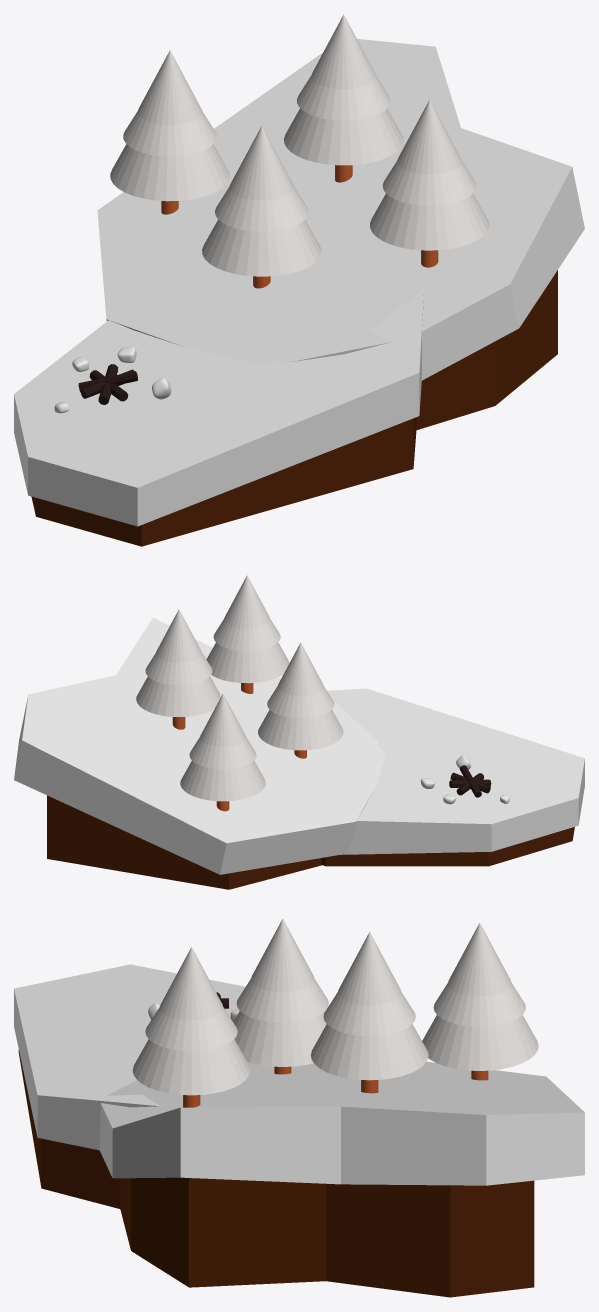
Rendered from ile_petite_neige_1.fbx.
The picture shows the model from 3 angles, top to bottom: view 1: azimuth 30°, elevation 25°; view 2: azimuth 150°, elevation 25°; view 3: azimuth 270°, elevation 25°; orthographic projection. The views are drawn at different scales.
Parts seen in each view (by area): view 1: Cylinder, Cylinder.001, Terre 2, Sapin 4, Sapin 3, Sapin 2, Sapin 1, Terre 1, Buche feu de camp, Roche feu de camp; view 2: Cylinder, Cylinder.001, Terre 1, Sapin 2, Sapin 1, Sapin 4, Sapin 3, Terre 2, Buche feu de camp, Roche feu de camp; view 3: Cylinder, Terre 1, Cylinder.001, Sapin 3, Sapin 4, Sapin 1, Sapin 2, Terre 2.
Part boxes in pixels (x1,y1,x2,y2): Cylinder: [97, 39, 584, 380]; Cylinder.001: [14, 289, 423, 526]; Terre 2: [31, 417, 416, 546]; Sapin 4: [284, 14, 403, 165]; Sapin 3: [370, 99, 489, 250]; Sapin 2: [202, 126, 321, 276]; Sapin 1: [110, 50, 229, 201]; Terre 1: [416, 270, 557, 430]; Buche feu de camp: [78, 364, 137, 404]; Roche feu de camp: [54, 346, 171, 413]; Cylinder: [14, 617, 386, 874]; Cylinder.001: [327, 688, 584, 854]; Terre 1: [47, 795, 322, 889]; Sapin 2: [258, 642, 343, 750]; Sapin 1: [180, 694, 265, 801]; Sapin 4: [136, 609, 221, 716]; Sapin 3: [206, 575, 289, 683]; Terre 2: [321, 827, 574, 866]; Buche feu de camp: [449, 765, 491, 797]; Roche feu de camp: [420, 755, 509, 804]; Cylinder: [99, 1061, 584, 1185]; Terre 1: [120, 1177, 534, 1297]; Cylinder.001: [14, 964, 245, 1150]; Sapin 3: [132, 947, 250, 1095]; Sapin 4: [310, 932, 428, 1080]; Sapin 1: [422, 923, 538, 1070]; Sapin 2: [233, 919, 328, 1066]; Terre 2: [18, 1049, 120, 1209].
Bounding box in the file's own units: 3242 × 1611 × 2713.
